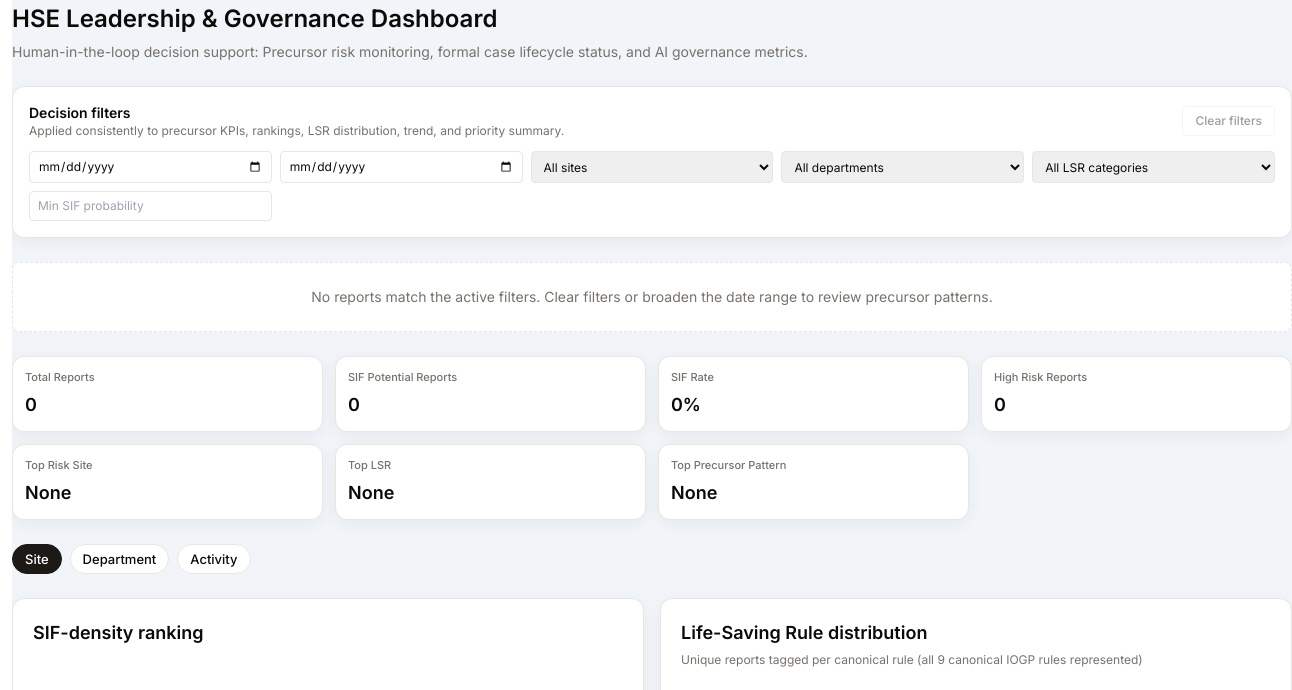
DashboardPage › passes the shared site filter to the KPI query and displays it
Select "Alpha" in the dropdown named "Site": (652, 167) x1=531 y1=151 x2=773 y2=183
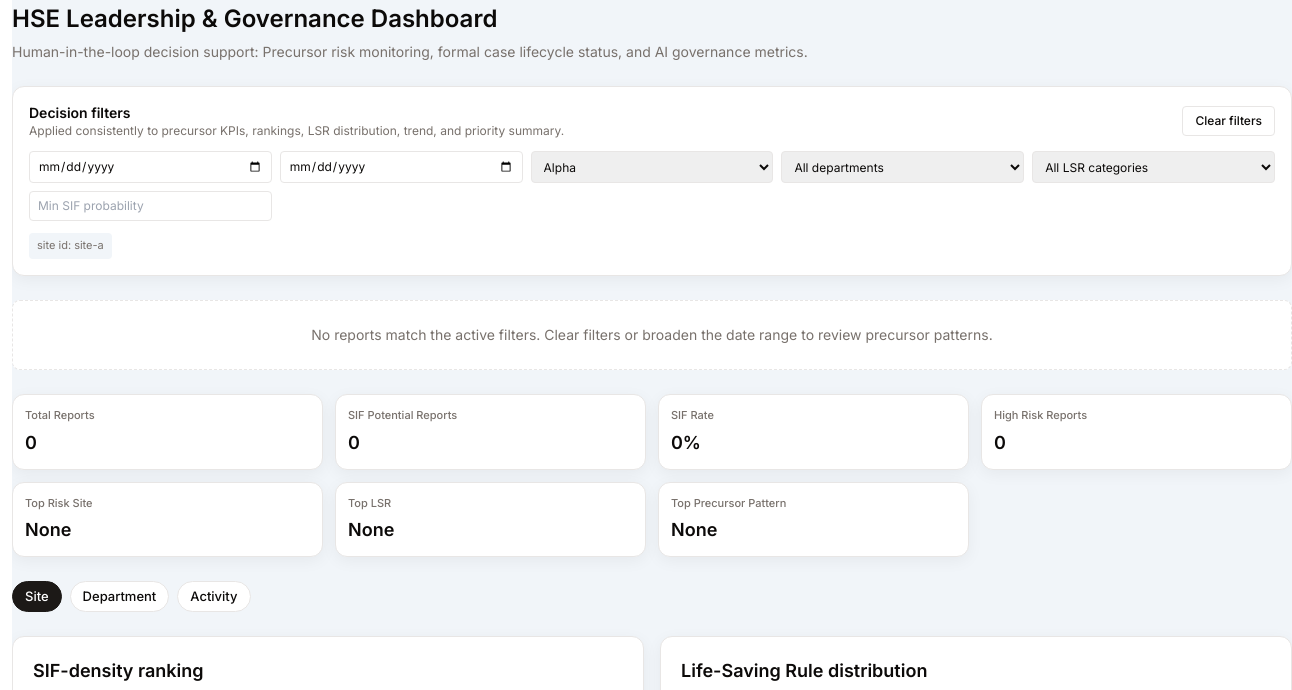
Check: the text "site id: site-a" is shown, box x1=29 y1=233 x2=112 y2=259
